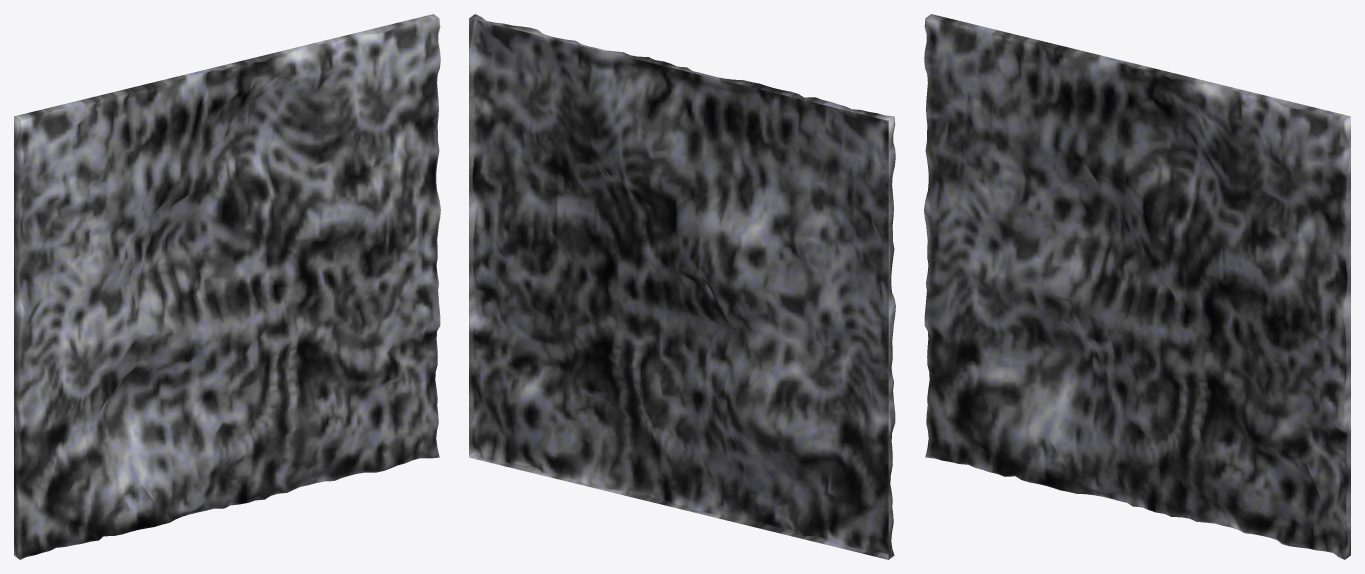
The model's file is bridg1_3_flipx.fbx.
The picture shows the model from 3 angles, left to right: view 1: azimuth 30°, elevation 25°; view 2: azimuth 150°, elevation 25°; view 3: azimuth 330°, elevation 25°; orthographic projection.
Parts seen in each view (by area): view 1: bridg1_3_mesh.flipx; view 2: bridg1_3_mesh.flipx; view 3: bridg1_3_mesh.flipx.
Part boxes in pixels (box(x1,y1,x2,y2)): bridg1_3_mesh.flipx: box(14, 14, 440, 559); bridg1_3_mesh.flipx: box(469, 14, 895, 559); bridg1_3_mesh.flipx: box(924, 14, 1350, 559).
Size of the model in its own units: 256 by 256 by 28.75.
